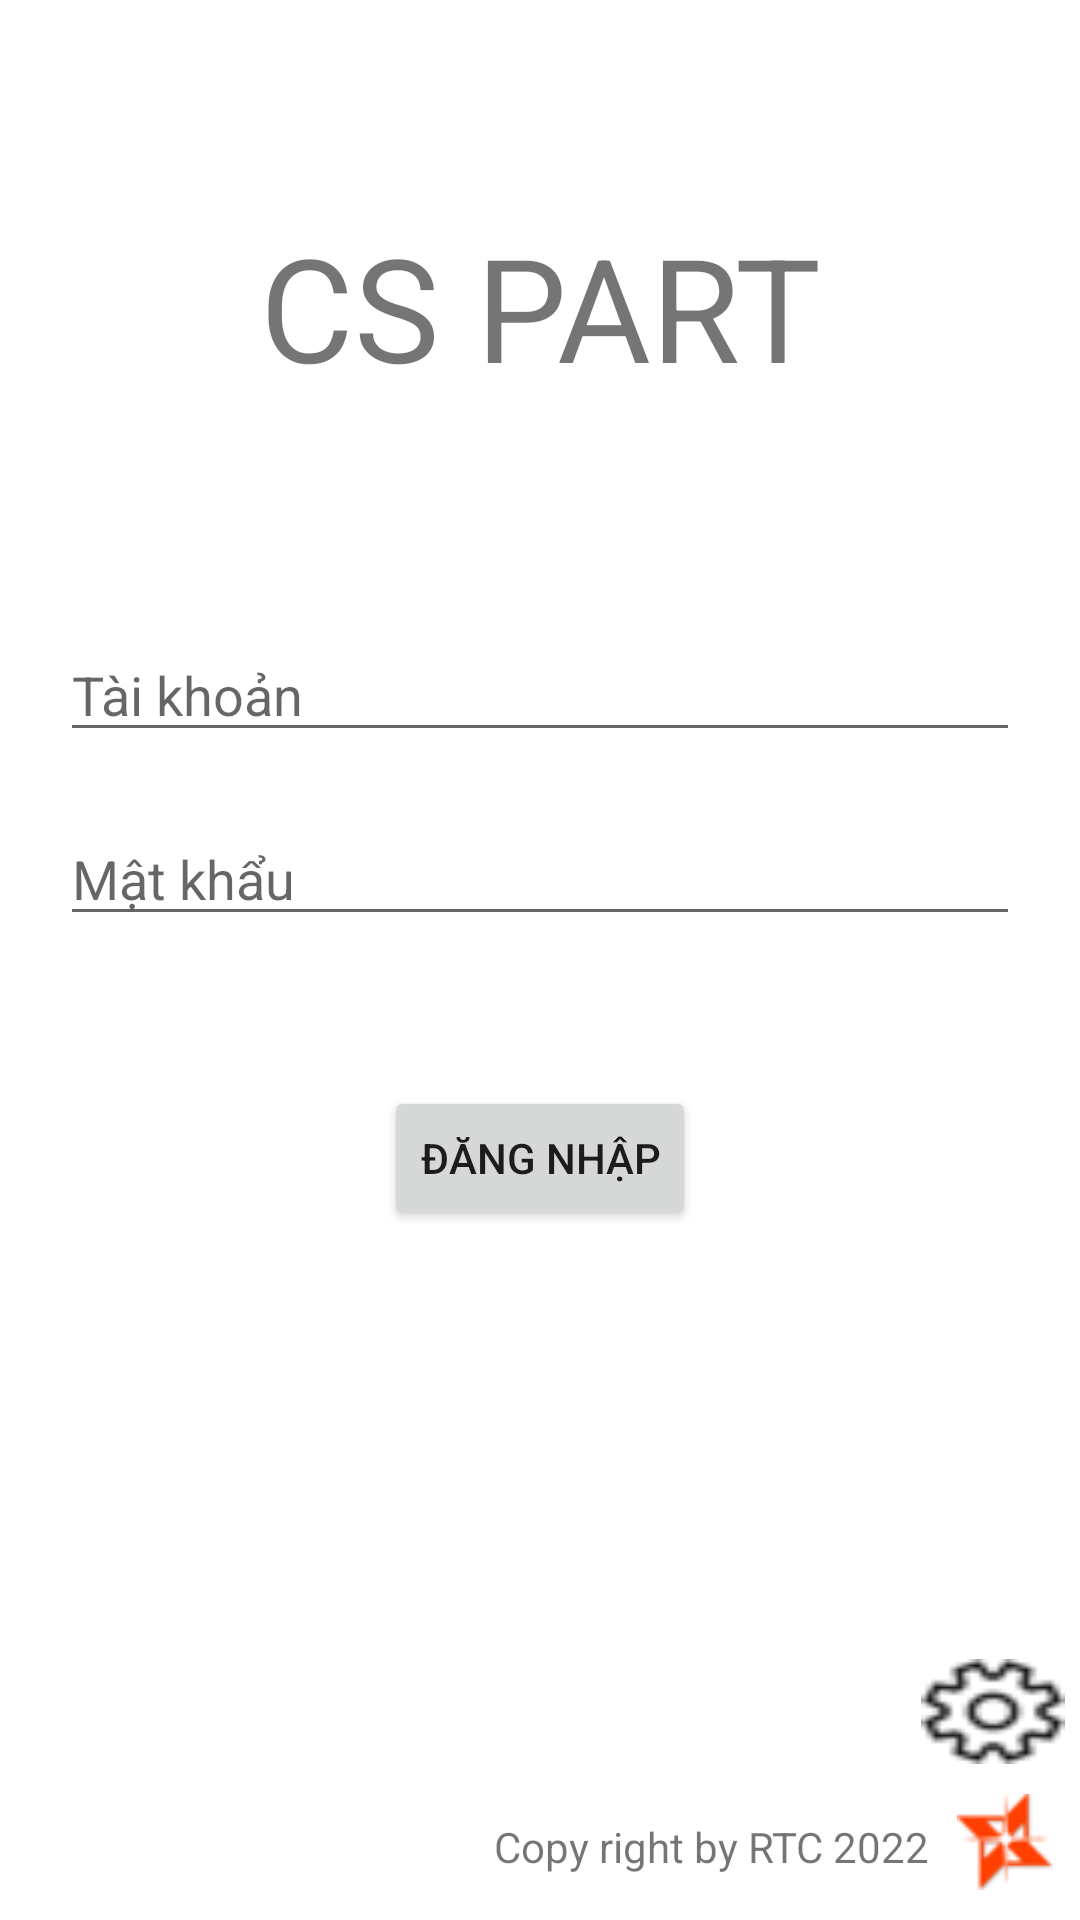

Named icons in this screenshot (1080x1920) and their bounding boxes, bbox=(x1, y1, x2, y2):
settingicon: bbox=(921, 1659, 1065, 1764)
